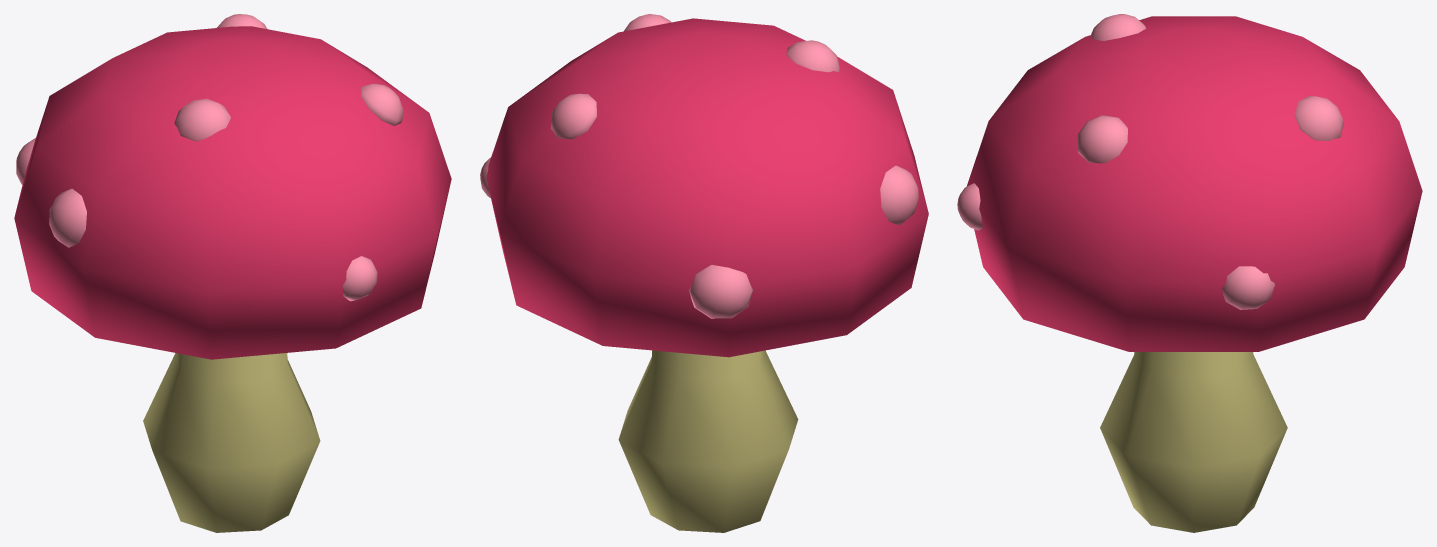
The model's file is Mushroom_FlyAgaric_Pink_2.fbx.
The picture shows the model from 3 angles, left to right: view 1: azimuth 30°, elevation 25°; view 2: azimuth 150°, elevation 25°; view 3: azimuth 270°, elevation 25°; orthographic projection. The views are drawn at different scales.
Visible parts, largest first — view 1: Cylinder.241, Cylinder.239, Cylinder.240; view 2: Cylinder.241, Cylinder.239, Cylinder.240; view 3: Cylinder.241, Cylinder.239, Cylinder.240.
Part boxes in pixels (x1=…): Cylinder.241: x1=14, y1=26, x2=451, y2=359; Cylinder.239: x1=143, y1=353, x2=320, y2=532; Cylinder.240: x1=16, y1=14, x2=403, y2=301; Cylinder.241: x1=486, y1=18, x2=928, y2=357; Cylinder.239: x1=618, y1=350, x2=798, y2=532; Cylinder.240: x1=480, y1=14, x2=918, y2=318; Cylinder.241: x1=966, y1=16, x2=1422, y2=351; Cylinder.239: x1=1100, y1=352, x2=1287, y2=532; Cylinder.240: x1=957, y1=14, x2=1343, y2=309.
Bounding box in the file's own units: 81.42 × 90.44 × 83.11.
